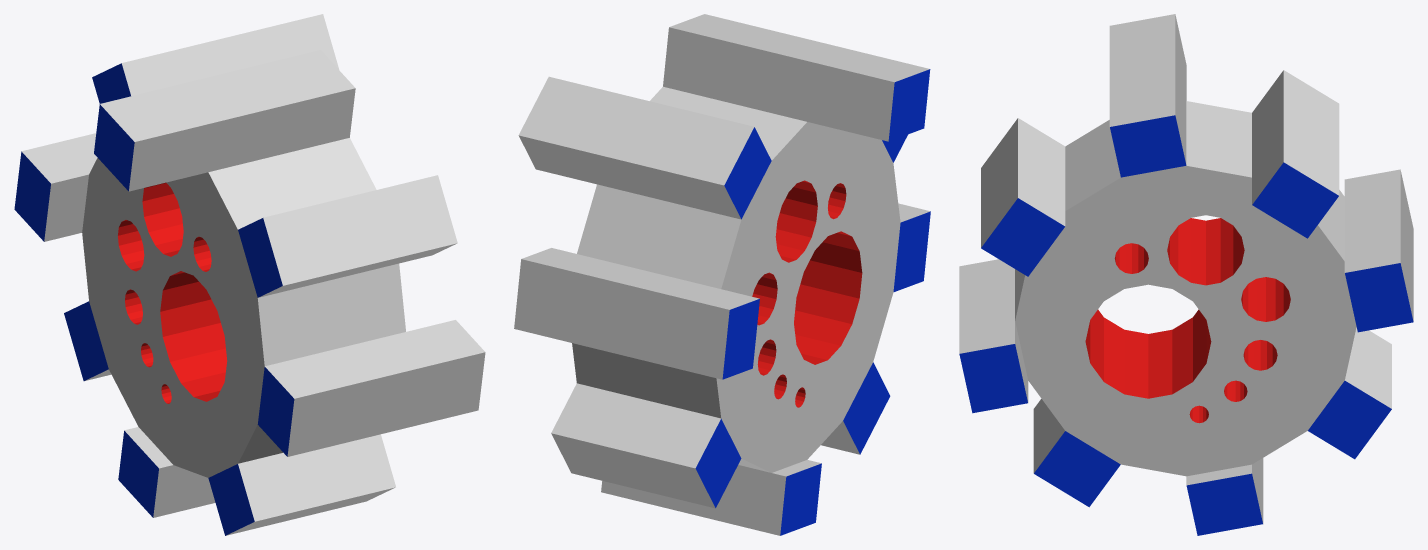
File: GEAR.fbx
The picture shows the model from 3 angles, left to right: view 1: azimuth 30°, elevation 25°; view 2: azimuth 150°, elevation 25°; view 3: azimuth 270°, elevation 25°; orthographic projection. The views are drawn at different scales.
Visible parts, largest first — view 1: Cylinder; view 2: Cylinder; view 3: Cylinder.
Boxes of the visible parts, x1,y1,x2,y2 form: Cylinder: [14, 14, 485, 535]; Cylinder: [514, 14, 930, 535]; Cylinder: [959, 14, 1413, 535].
Bounding box in the file's own units: 1096 × 1634 × 1634.
